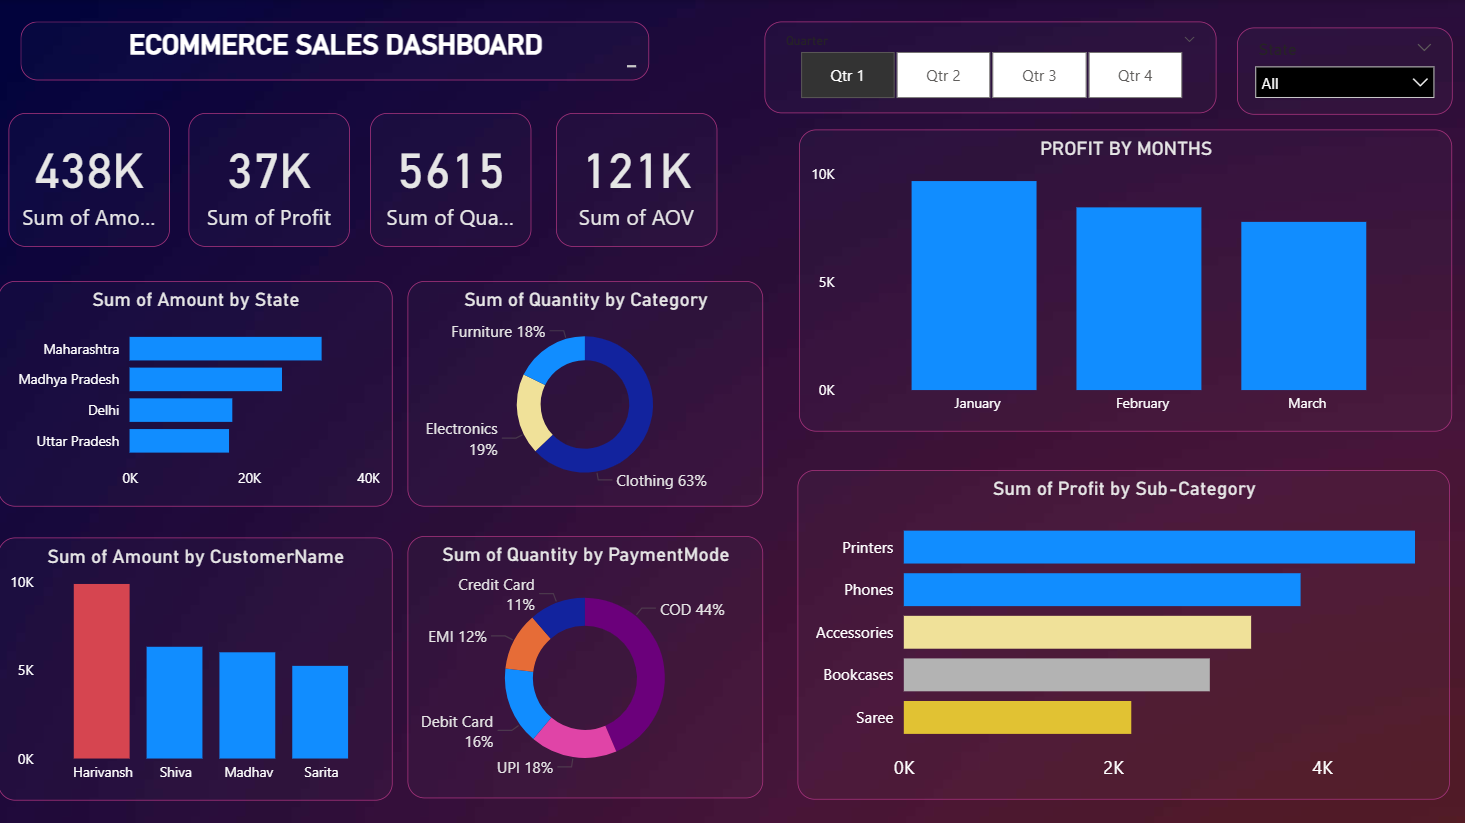

The dashboard page shown, as its layout file describes it:
{"tool":"powerbi","page":{"name":"Page 1","canvas":[1280,720],"ordinal":0},"visuals":[{"type":"textbox","title":"ECOMMERCE SALES DASHBOARD","box":[19.7,19.7,548.1,51.5],"z":0},{"type":"columnChart","title":"PROFIT BY MONTHS","fields":{"Y":["Details.Profit"],"Category":["Orders.Order Date.Variation.Date Hierarchy.Month"]},"box":[698,113.6,569.3,263.5],"z":1000},{"type":"barChart","fields":{"Category":["Details.Sub-Category"],"Y":["Details.Profit"]},"box":[697.3,410.1,568.8,287.2],"z":2000},{"type":"donutChart","fields":{"Category":["Details.Category"],"Y":["Details.Quantity"]},"box":[357.2,245.7,309.9,196.5],"z":3000},{"type":"donutChart","fields":{"Y":["Details.Quantity"],"Category":["Details.PaymentMode"]},"box":[357.2,468.7,309.9,228.7],"z":4000},{"type":"card","fields":{"Values":["Details.Amount"]},"box":[9.1,99.9,140.8,116.6],"z":5000},{"type":"card","fields":{"Values":["Details.Profit"]},"box":[166.6,99.9,140.8,116.6],"z":6000},{"type":"card","fields":{"Values":["Details.Quantity"]},"box":[324,99.9,140.8,116.6],"z":7000},{"type":"card","fields":{"Values":["Details.AOV"]},"box":[486.1,99.9,140.8,116.6],"z":8000},{"type":"barChart","fields":{"Category":["Orders.State"],"Y":["Details.Amount"]},"box":[0,245.7,343.9,196.5],"z":9000},{"type":"columnChart","fields":{"Category":["Orders.CustomerName"],"Y":["Details.Amount"]},"box":[0,469,344,229],"z":10000},{"type":"slicer","fields":{"Values":["Orders.Order Date.Variation.Date Hierarchy.Quarter"]},"box":[667.8,19.7,393.7,80.3],"z":11000},{"type":"slicer","fields":{"Values":["Orders.State"]},"box":[1079.6,24.2,187.8,75.7],"z":12000}]}

Visuals, with their boxes in screenshot pixels (x1, y1, x2, y2), scaled from the page's 1280x720 canvas onto the 1465x823 screenshot:
"ECOMMERCE SALES DASHBOARD" textbox: box(23, 23, 650, 81)
"PROFIT BY MONTHS" columnChart: box(799, 130, 1450, 431)
barChart - Details.Sub-Category x Details.Profit: box(798, 469, 1449, 797)
donutChart - Details.Category x Details.Quantity: box(409, 281, 764, 505)
donutChart - Details.Quantity x Details.PaymentMode: box(409, 536, 764, 797)
card - Details.Amount: box(10, 114, 172, 247)
card - Details.Profit: box(191, 114, 352, 247)
card - Details.Quantity: box(371, 114, 532, 247)
card - Details.AOV: box(556, 114, 718, 247)
barChart - Orders.State x Details.Amount: box(0, 281, 394, 505)
columnChart - Orders.CustomerName x Details.Amount: box(0, 536, 394, 798)
slicer - Orders.Order Date.Variation.Date Hierarchy.Quarter: box(764, 23, 1215, 114)
slicer - Orders.State: box(1236, 28, 1451, 114)
